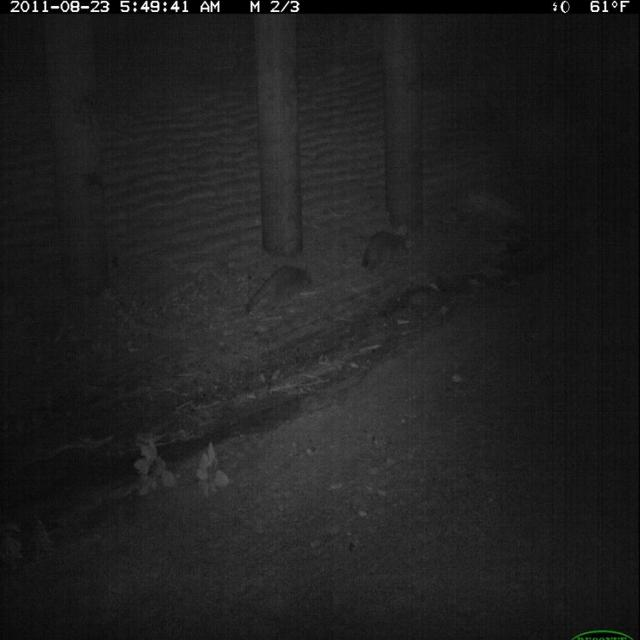raccoon: (241, 259, 317, 322), (357, 222, 414, 282)
